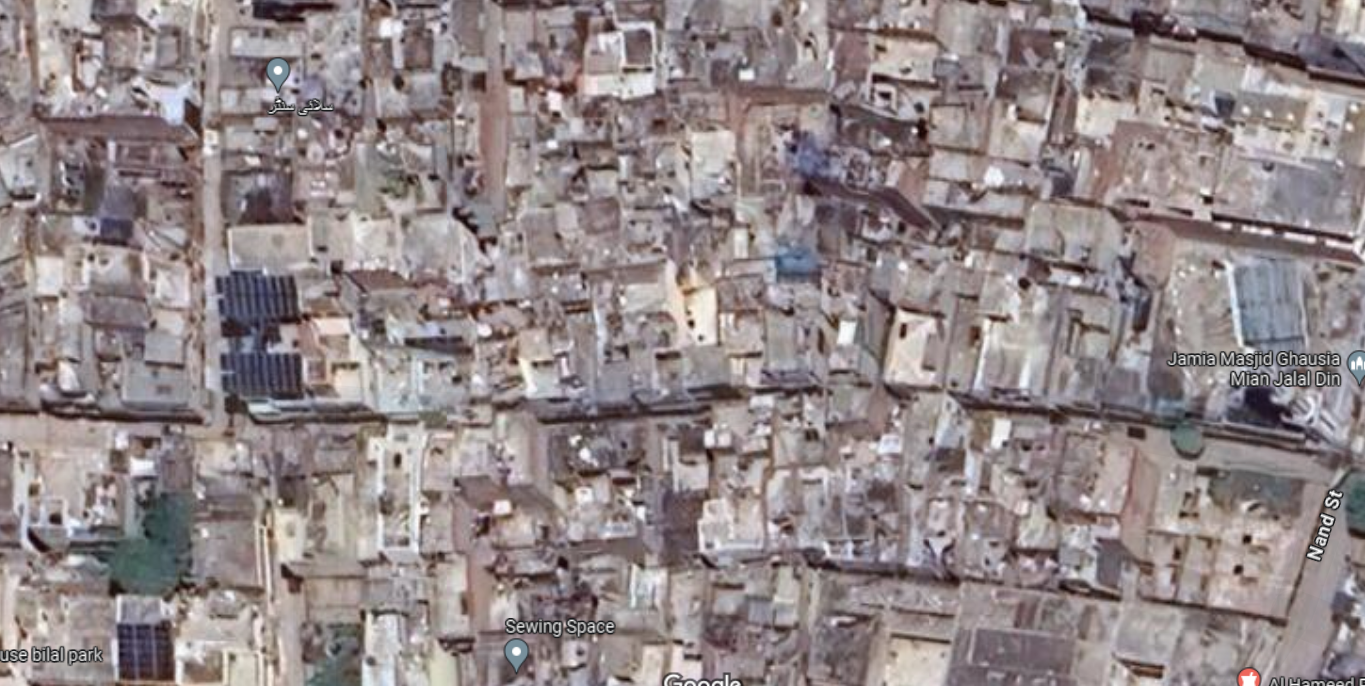solar-panel: (214, 271, 313, 409), (121, 616, 178, 686)
